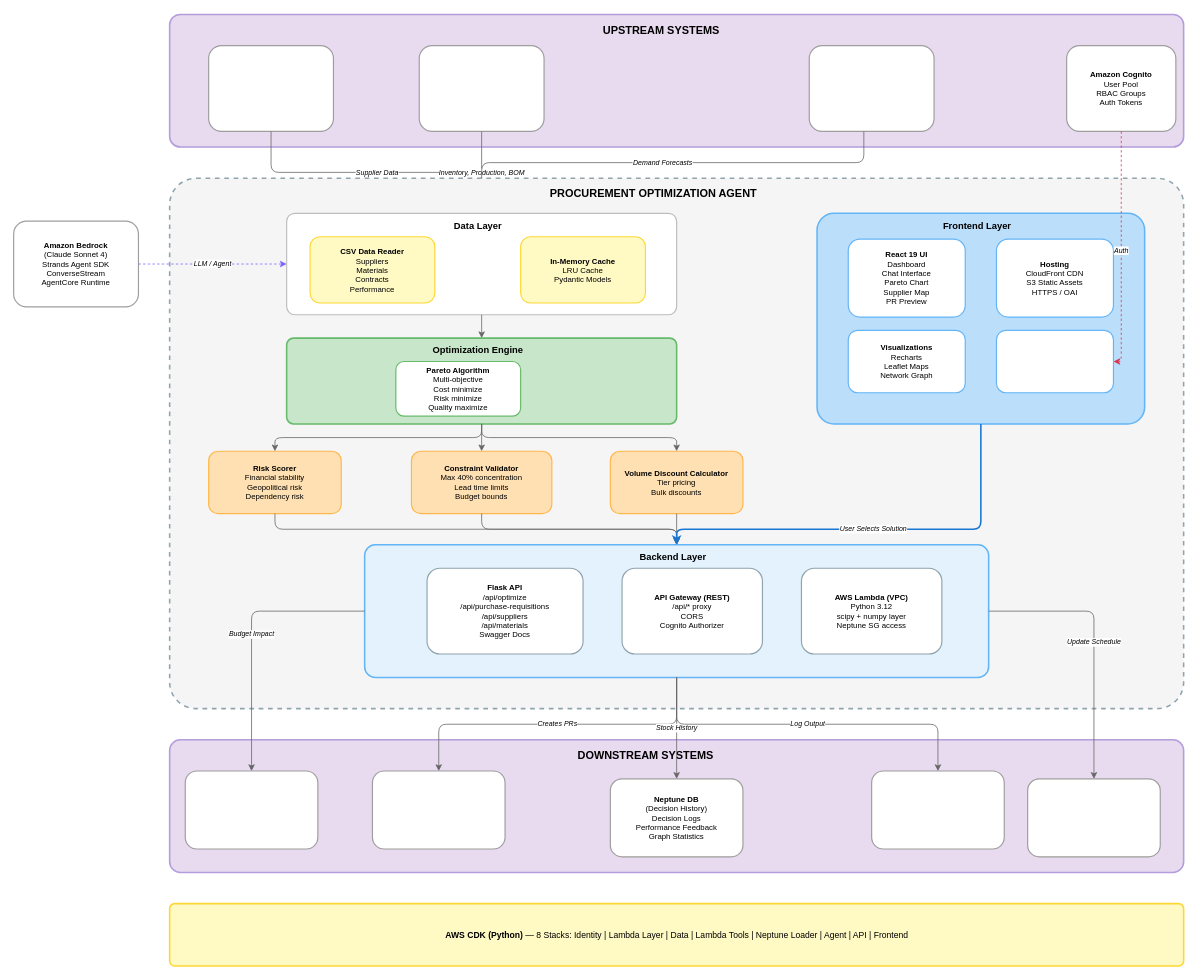
This 1198x980 diagram has some shape labels left out. Here are the shapes that lost their labels. From the top down, the centre of each, then its label:
the point at 271,88: Neptune DB (Supplier Data) Supplier Info Contracts Performance Relationships
the point at 481,88: ERP System (SAP/Oracle/Email) Inventory Production Sales History BOM
the point at 871,88: SageMaker (ML Forecasting) Amazon Chronos Demand Forecast Confidence Intervals
the point at 1055,361: Auth and RBAC Cognito Integration Role-based views 4 User Personas
the point at 251,809: Financial Forecasting Budget Tracking Cost Analysis Spend Forecasts
the point at 438,809: ERP System (SAP/Oracle/Email) PR Approval PO Creation Supplier Orders
the point at 937,809: Audit Trail Decision Logs Compliance Traceability
the point at 1093,817: Production Planning Schedule Updates Material Availability Capacity Planning
